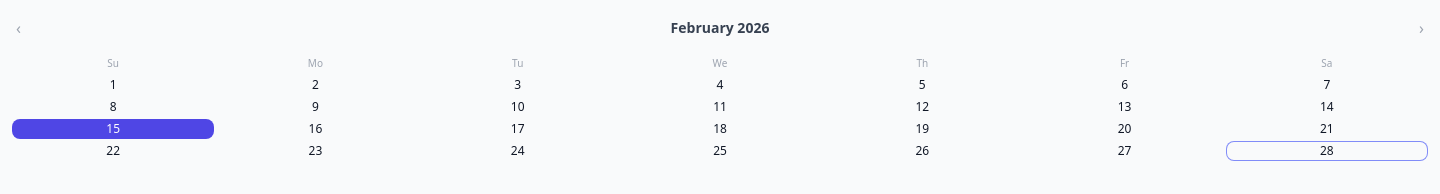
Test case: MiniCalendar › navigates to previous month when ‹ is clicked
Click the button "‹" at (18, 28), box [12,12,25,44]
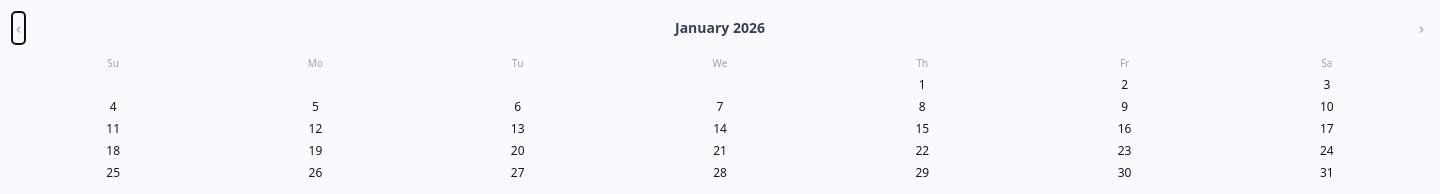
Now the text "February 2026" is gone
